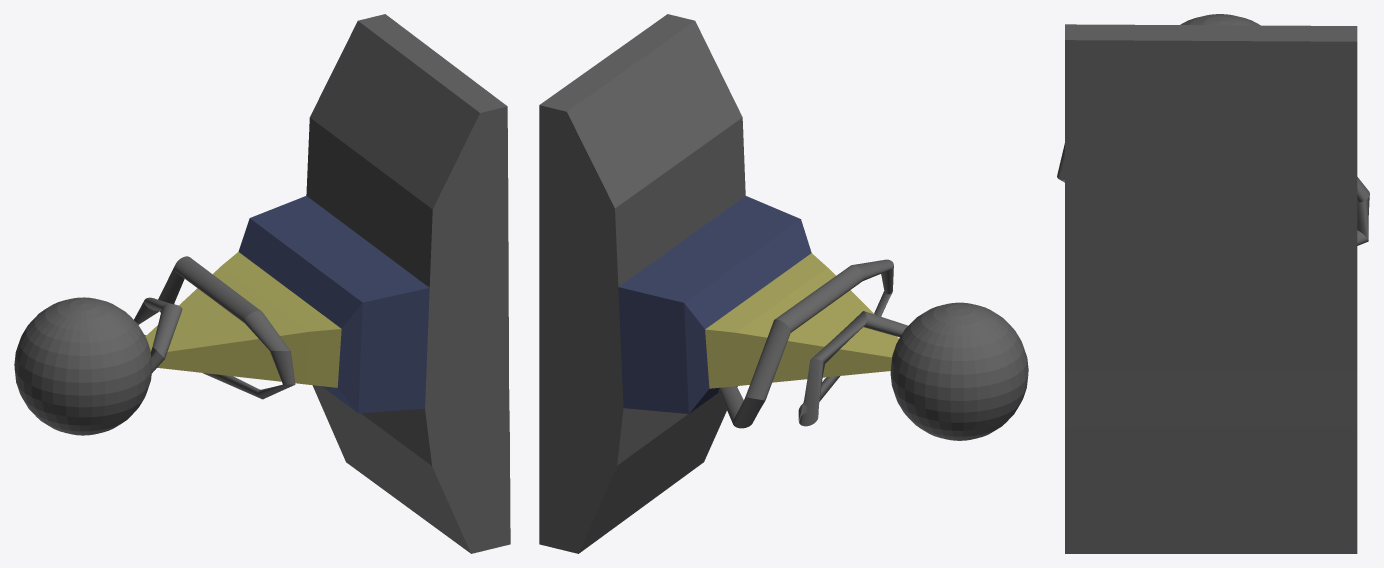
File: Electric Coil.fbx
3 views of the same model, side by side, from view 1: azimuth 30°, elevation 25°; view 2: azimuth 150°, elevation 25°; view 3: azimuth 270°, elevation 25° (orthographic). The views are drawn at different scales.
Parts seen in each view (by area): view 1: Eletric Coil; view 2: Eletric Coil; view 3: Eletric Coil.
Boxes of the visible parts, bbox=[...] form: Eletric Coil: bbox=[14, 14, 510, 553]; Eletric Coil: bbox=[539, 14, 1028, 553]; Eletric Coil: bbox=[1057, 14, 1369, 553].
Bounding box in the file's own units: 69.3 × 69.05 × 38.23.
